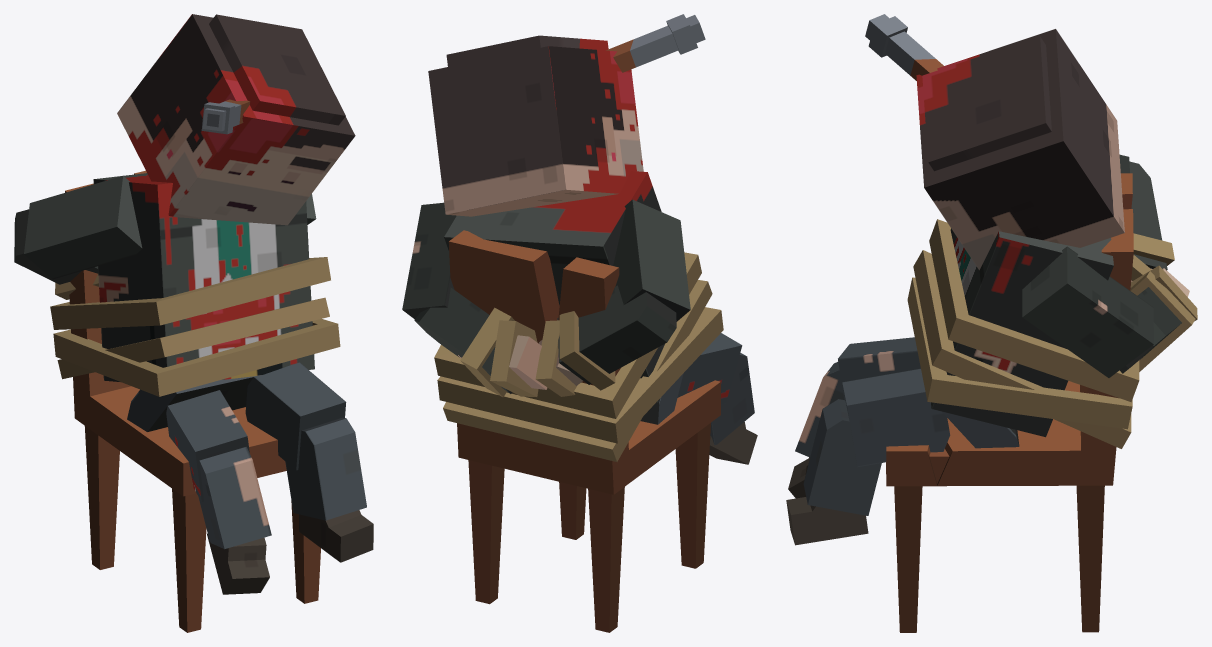
File: AI_Prop_Body_Chair.fbx
3 views of the same model, side by side, from view 1: azimuth 30°, elevation 25°; view 2: azimuth 150°, elevation 25°; view 3: azimuth 270°, elevation 25° (orthographic). The views are drawn at different scales.
Parts seen in each view (by area): view 1: AI_Prop_Body_Chair; view 2: AI_Prop_Body_Chair; view 3: AI_Prop_Body_Chair.
Boxes of the visible parts, x1,y1,x2,y2 form: AI_Prop_Body_Chair: (14, 14, 373, 632); AI_Prop_Body_Chair: (402, 14, 757, 632); AI_Prop_Body_Chair: (786, 14, 1197, 632).
Size of the model in its own units: 1.53 by 2.9 by 1.87.
